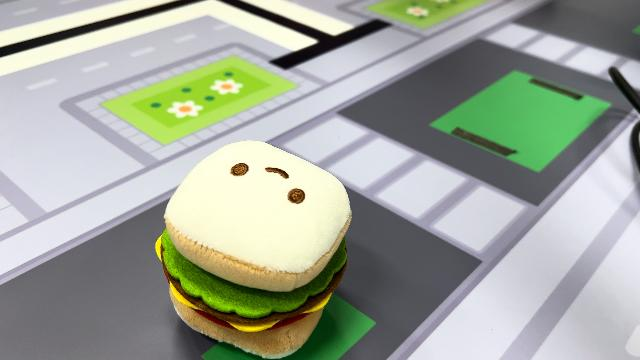sandwich: (153, 138, 354, 356)
